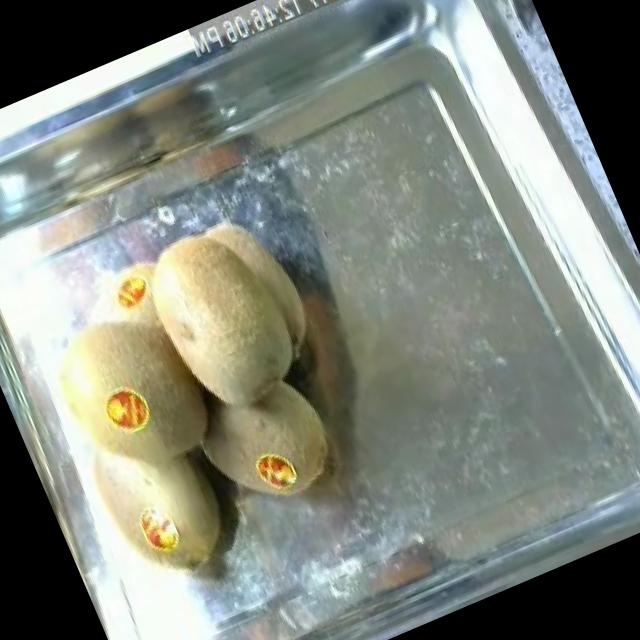Fruit: (128, 187, 344, 430), (174, 354, 356, 533), (88, 374, 166, 449)
